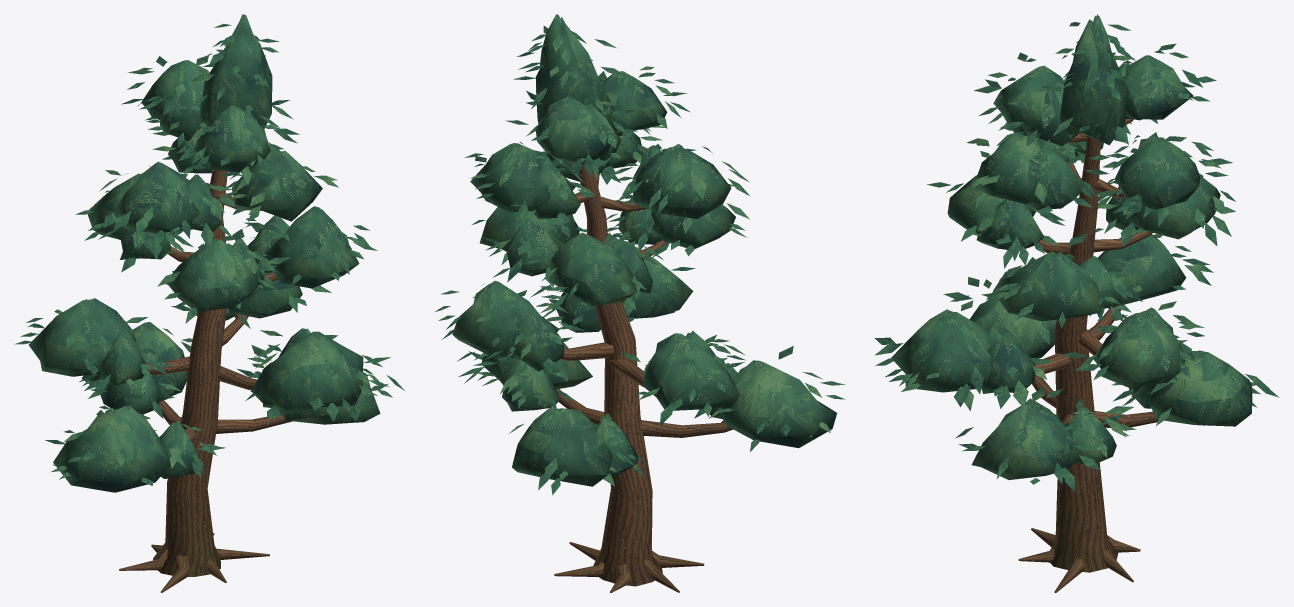
Rendered from tree-pine.glb.
3 views of the same model, side by side, from view 1: azimuth 30°, elevation 25°; view 2: azimuth 150°, elevation 25°; view 3: azimuth 270°, elevation 25° (orthographic). The views are drawn at different scales.
Parts seen in each view (by area): view 1: Tree_pine; view 2: Tree_pine; view 3: Tree_pine.
Boxes of the visible parts, x1,y1,x2,y2 form: Tree_pine: (14,14,404,592); Tree_pine: (435,14,845,592); Tree_pine: (874,14,1279,592).
Size of the model in its own units: 6.19 by 9.05 by 5.79.
Materials: 2 (2 with a texture image).
